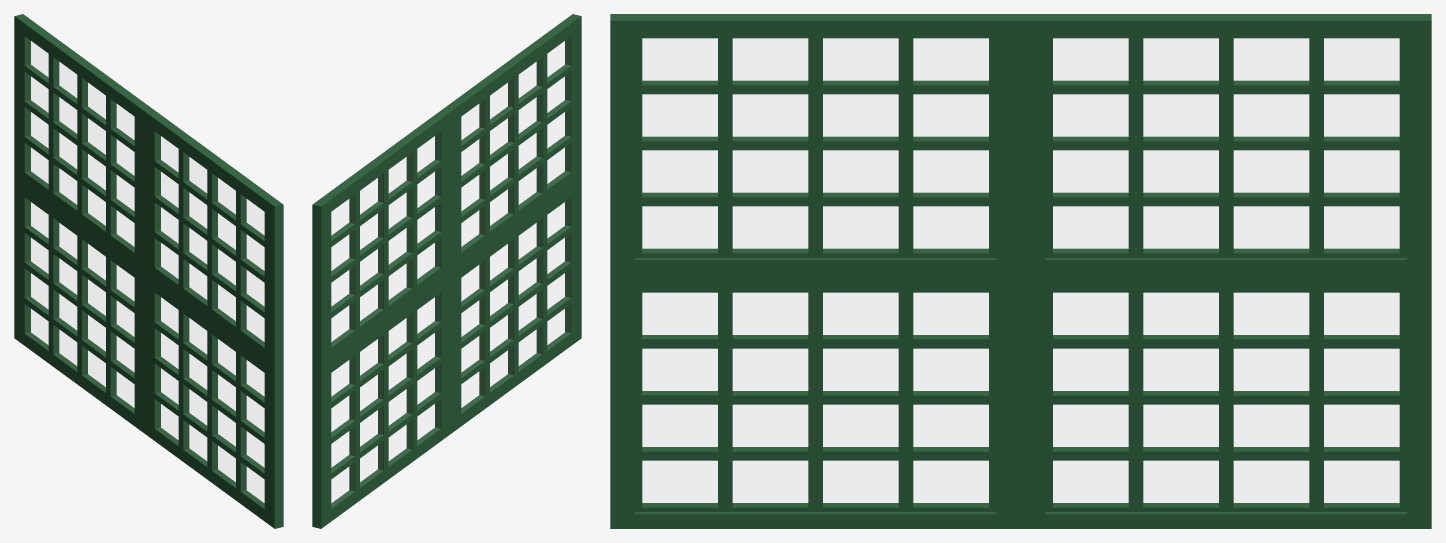
Rendered from Finestra_M.fbx.
3 views of the same model, side by side, from view 1: azimuth 30°, elevation 25°; view 2: azimuth 150°, elevation 25°; view 3: azimuth 270°, elevation 25° (orthographic). The views are drawn at different scales.
Visible parts, largest first — view 1: struttura.003; view 2: struttura.003; view 3: struttura.003.
Part boxes in pixels (bbox=[...]): struttura.003: bbox=[14, 14, 283, 528]; struttura.003: bbox=[312, 14, 581, 528]; struttura.003: bbox=[610, 14, 1431, 528].
Size of the model in its own units: 8.59 by 305 by 446.
